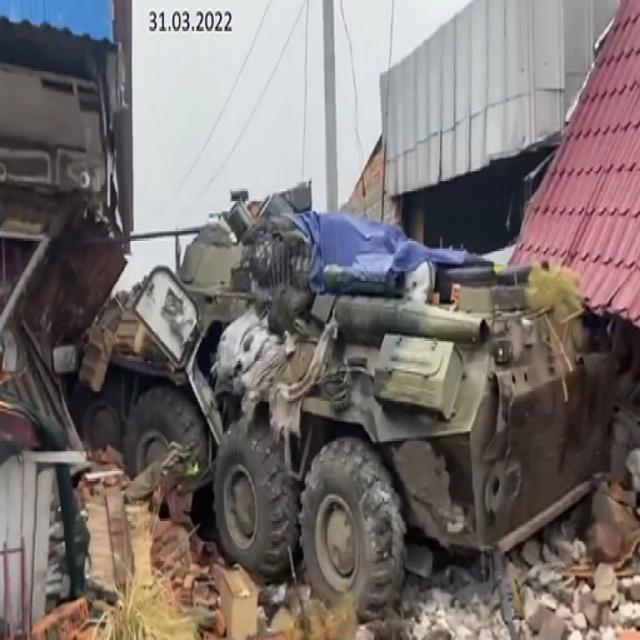APC-IFV: (68, 167, 622, 631)
